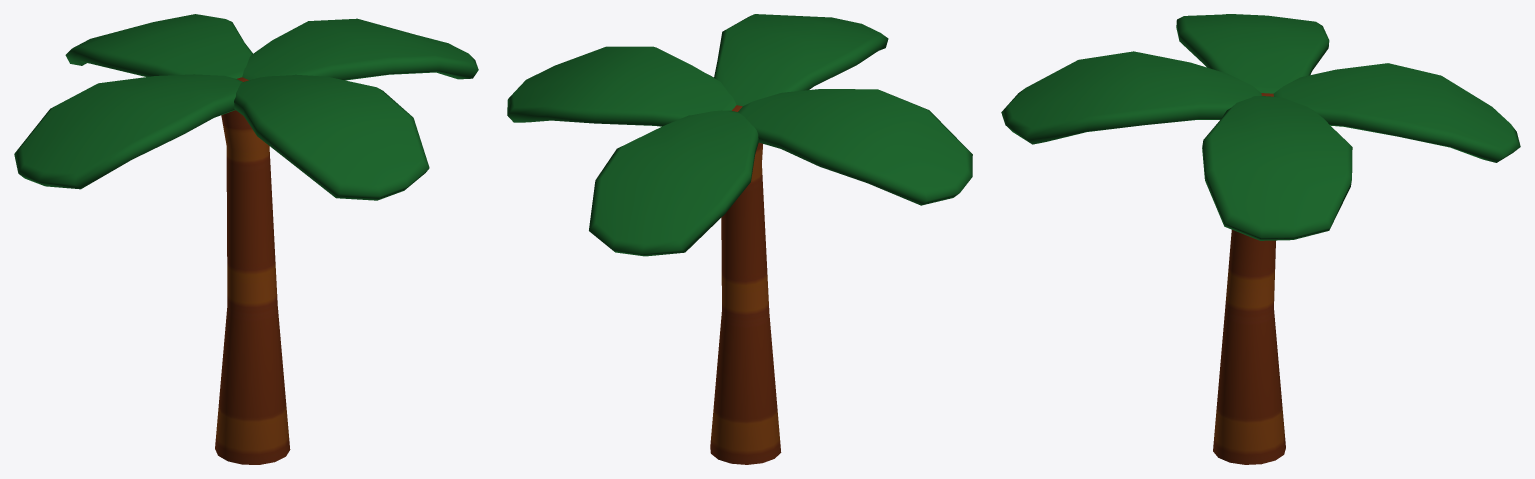
Rendered from TreePalm.fbx.
3 views of the same model, side by side, from view 1: azimuth 30°, elevation 25°; view 2: azimuth 150°, elevation 25°; view 3: azimuth 270°, elevation 25° (orthographic). The views are drawn at different scales.
Parts seen in each view (by area): view 1: TreePalm:TreePalm11; view 2: TreePalm:TreePalm11; view 3: TreePalm:TreePalm11.
Part boxes in pixels (x1,y1,x2,y2): TreePalm:TreePalm11: (14, 14, 478, 464); TreePalm:TreePalm11: (507, 14, 972, 464); TreePalm:TreePalm11: (1001, 14, 1520, 464).
Size of the model in its own units: 6.92 by 5.6 by 6.96.
